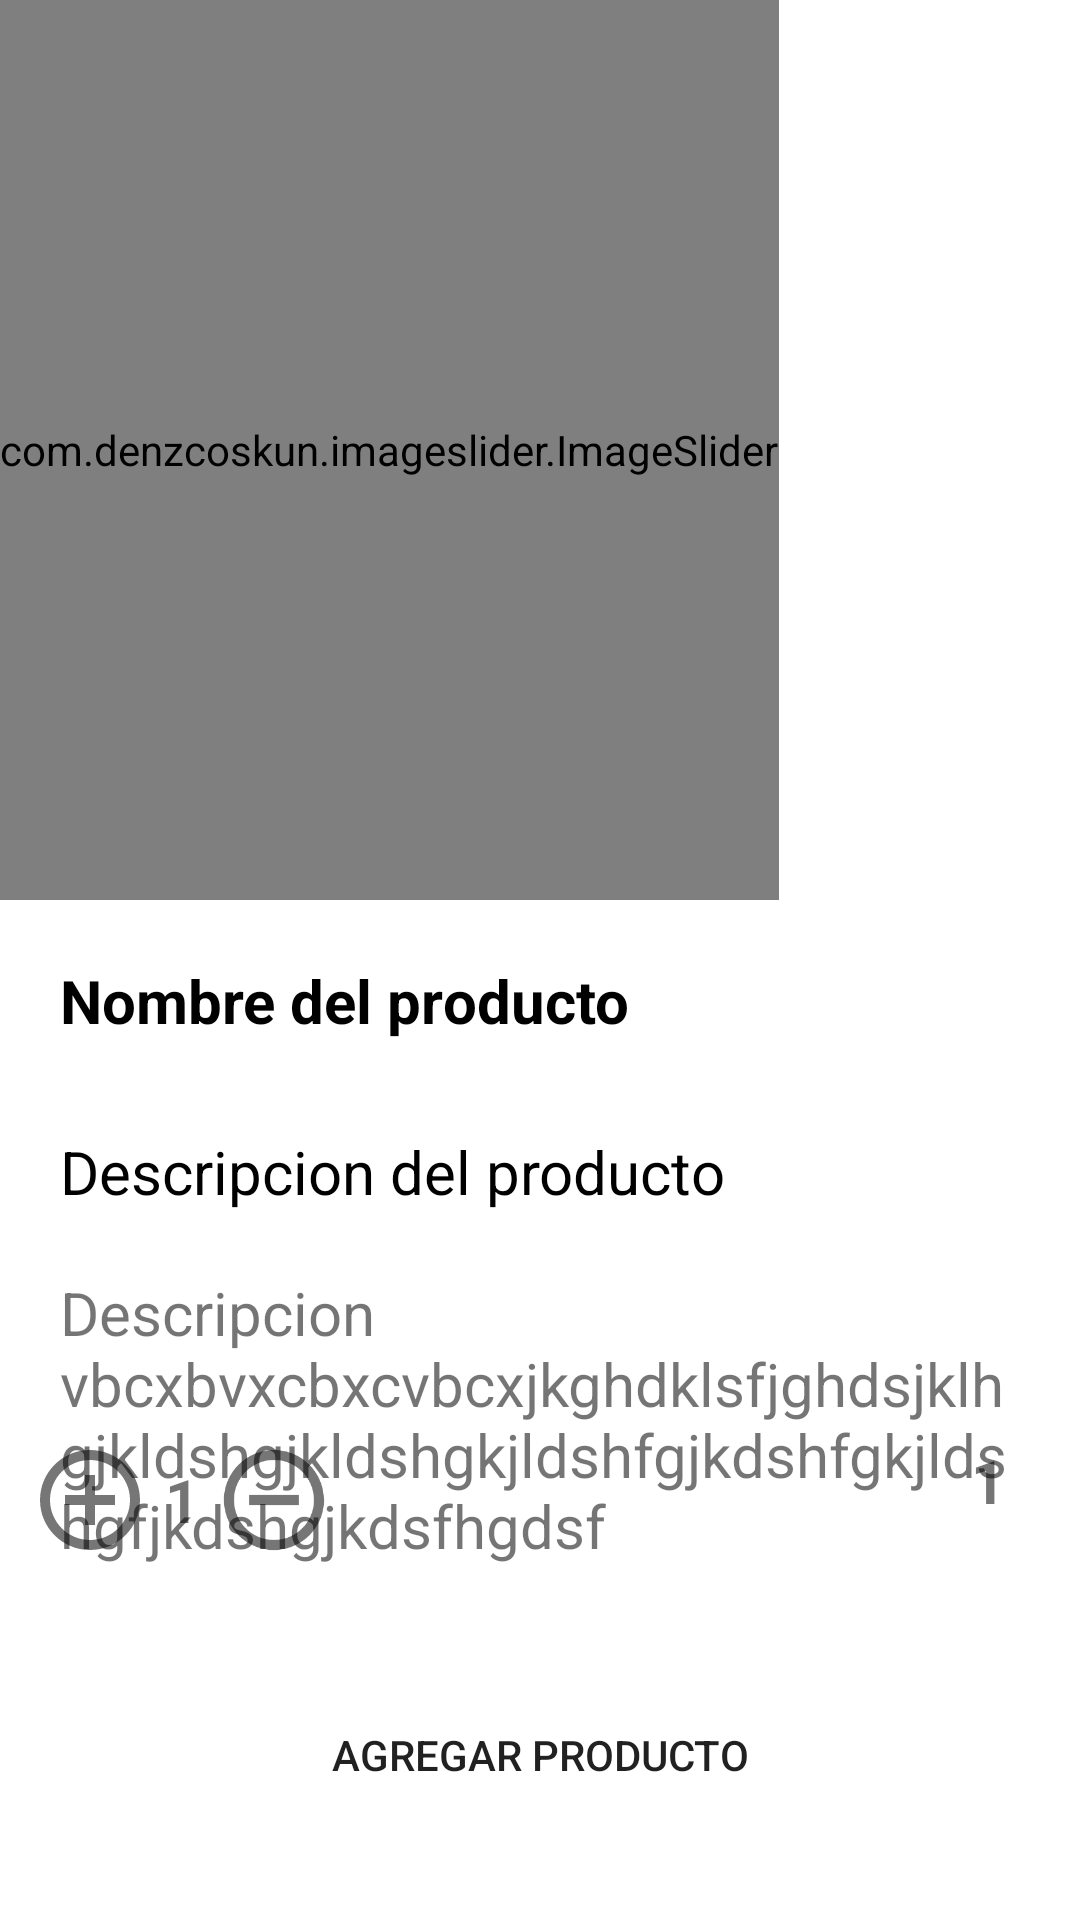

Named icons in this screenshot (1080 × 1920) and their centers, [x,y]:
add circle: [95,1500]
remove circle: [274,1500]
